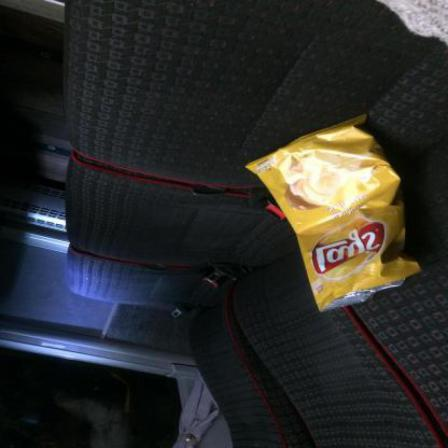Plastic bag - wrapper: (247, 115, 423, 313)
